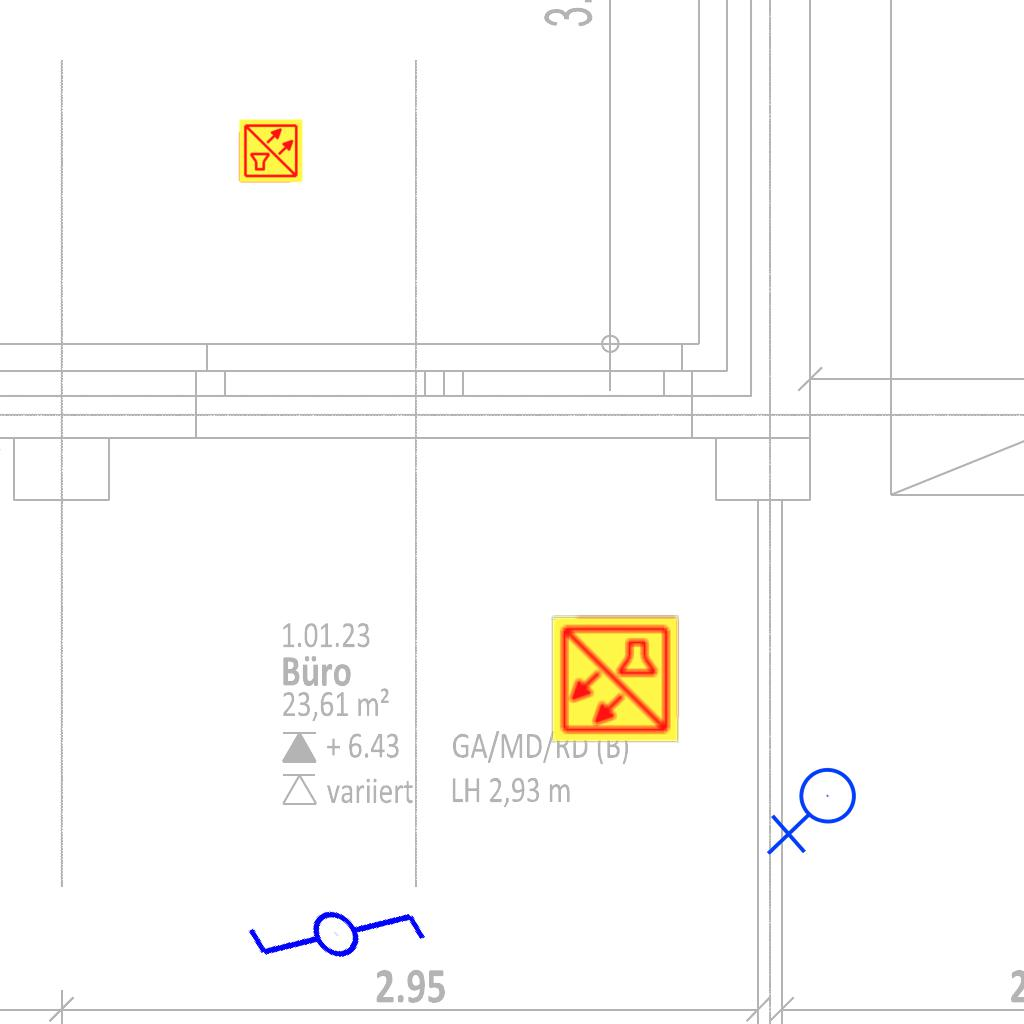Elektroanschluss_allgemein_230V_Geraeteanschlussdose_230V: (766, 766, 865, 860)
OKW_Multisensormelder_(Kombination_optischer_Rauch-Kahlenmonoxid_Waerme-Melder): (549, 613, 681, 745), (238, 118, 304, 184)
Wechselschalter: (225, 820, 438, 1024)
